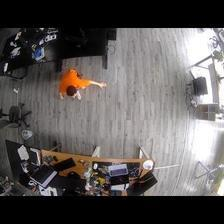fall: (57, 67, 107, 102)
